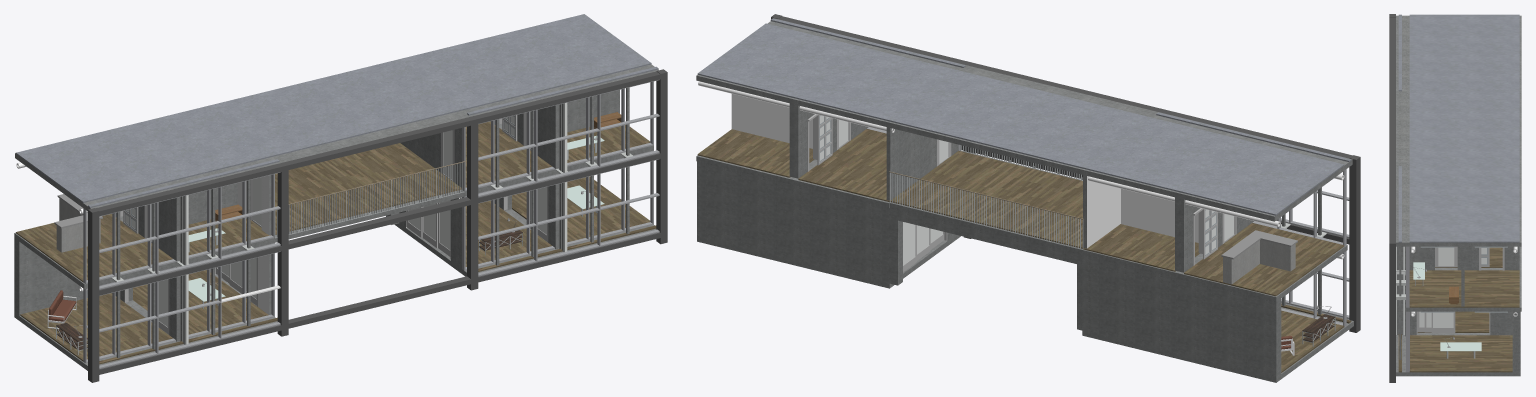
File: multi_office_building.glb
3 renders of one model, left to right at view 1: azimuth 30°, elevation 25°; view 2: azimuth 150°, elevation 25°; view 3: azimuth 270°, elevation 25°, orthographic. The views are drawn at different scales.
Parts seen in each view (by area): view 1: Object_84, Object_86, Object_92, Object_104, Object_1129, Object_1135, Object_1132, Object_82, Object_100, Object_108, Object_1310, Object_114 (+34 smaller); view 2: Object_1310, Object_84, Object_92, Object_86, Object_104, Object_108, Object_82, Object_88, Object_114, Object_90, Object_1293, Object_1129 (+20 smaller); view 3: Object_92, Object_84, Object_86, Object_90, Object_98, Object_108, Object_110, Object_1129, Object_1286, Object_112, Object_1137, Object_106 (+23 smaller).
Part boxes in pixels (x1=…): Object_84: x1=16, y1=106, x2=272, y2=202; Object_86: x1=206, y1=60, x2=461, y2=156; Object_92: x1=395, y1=14, x2=651, y2=110; Object_104: x1=275, y1=143, x2=461, y2=234; Object_1129: x1=96, y1=71, x2=660, y2=216; Object_1135: x1=99, y1=153, x2=660, y2=295; Object_1132: x1=99, y1=232, x2=660, y2=374; Object_82: x1=16, y1=214, x2=172, y2=281; Object_100: x1=20, y1=293, x2=173, y2=361; Object_108: x1=15, y1=110, x2=469, y2=211; Object_1310: x1=14, y1=212, x2=399, y2=315; Object_114: x1=14, y1=189, x2=464, y2=289; Object_1310: x1=697, y1=161, x2=1281, y2=377; Object_84: x1=1083, y1=117, x2=1344, y2=215; Object_92: x1=697, y1=23, x2=958, y2=121; Object_86: x1=890, y1=70, x2=1150, y2=168; Object_104: x1=890, y1=151, x2=1082, y2=248; Object_108: x1=889, y1=65, x2=1352, y2=221; Object_82: x1=1184, y1=223, x2=1344, y2=296; Object_88: x1=798, y1=129, x2=889, y2=201; Object_114: x1=889, y1=150, x2=1347, y2=301; Object_90: x1=697, y1=129, x2=814, y2=177; Object_1293: x1=886, y1=127, x2=958, y2=200; Object_1129: x1=778, y1=16, x2=1352, y2=158; Object_92: x1=1409, y1=166, x2=1519, y2=242; Object_84: x1=1409, y1=14, x2=1519, y2=90; Object_86: x1=1409, y1=90, x2=1519, y2=165; Object_90: x1=1409, y1=270, x2=1519, y2=307; Object_98: x1=1409, y1=335, x2=1512, y2=372; Object_108: x1=1396, y1=15, x2=1521, y2=166; Object_110: x1=1396, y1=167, x2=1521, y2=246; Object_1129: x1=1389, y1=17, x2=1395, y2=240; Object_1286: x1=1405, y1=246, x2=1519, y2=270; Object_112: x1=1396, y1=333, x2=1520, y2=376; Object_1137: x1=1389, y1=241, x2=1395, y2=382; Object_106: x1=1406, y1=246, x2=1521, y2=311.
Bounding box in the file's own units: 24.3 × 6.9 × 5.92.
Materials: 27 (10 with a texture image).
